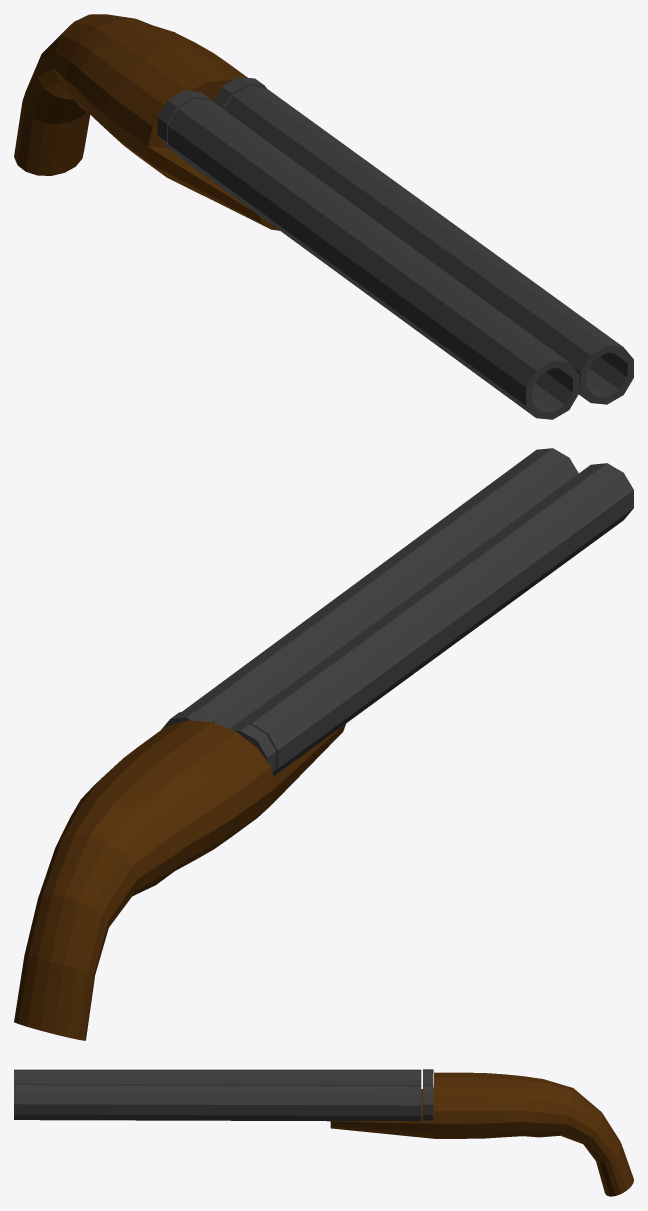
The model's file is _shotgun Prototype.fbx.
3 renders of one model, top to bottom at view 1: azimuth 30°, elevation 25°; view 2: azimuth 150°, elevation 25°; view 3: azimuth 270°, elevation 25°, orthographic. The views are drawn at different scales.
Parts seen in each view (by area): view 1: RBarrel, handle, LBarrel, RCap, LCap; view 2: handle, RBarrel, LBarrel, RCap; view 3: LBarrel, handle, RBarrel, LCap.
Part boxes in pixels (<box>): RBarrel: <box>168,99,579,419</box>; handle: <box>14,14,279,230</box>; LBarrel: <box>224,86,633,404</box>; RCap: <box>157,90,211,153</box>; LCap: <box>213,77,266,109</box>; handle: <box>14,720,345,1040</box>; RBarrel: <box>235,463,633,776</box>; LBarrel: <box>182,448,578,728</box>; RCap: <box>229,724,276,772</box>; LBarrel: <box>14,1083,421,1121</box>; handle: <box>330,1072,633,1196</box>; RBarrel: <box>14,1069,421,1084</box>; LCap: <box>422,1084,433,1120</box>.
Size of the model in its own units: 11.23 by 16.87 by 82.32.
Materials: 3 (2 with a texture image).
